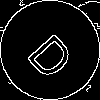D: (25, 25, 83, 83)
